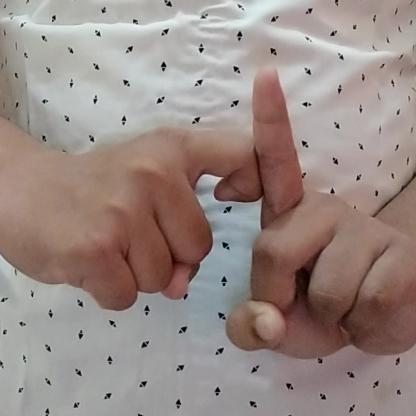K: (30, 54, 416, 400)
